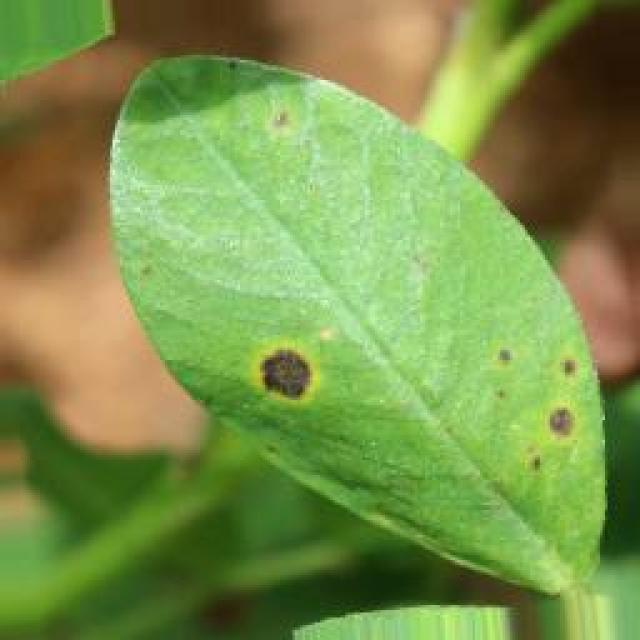Sigatoka: (469, 321, 602, 498), (213, 317, 337, 440), (231, 64, 319, 156)
